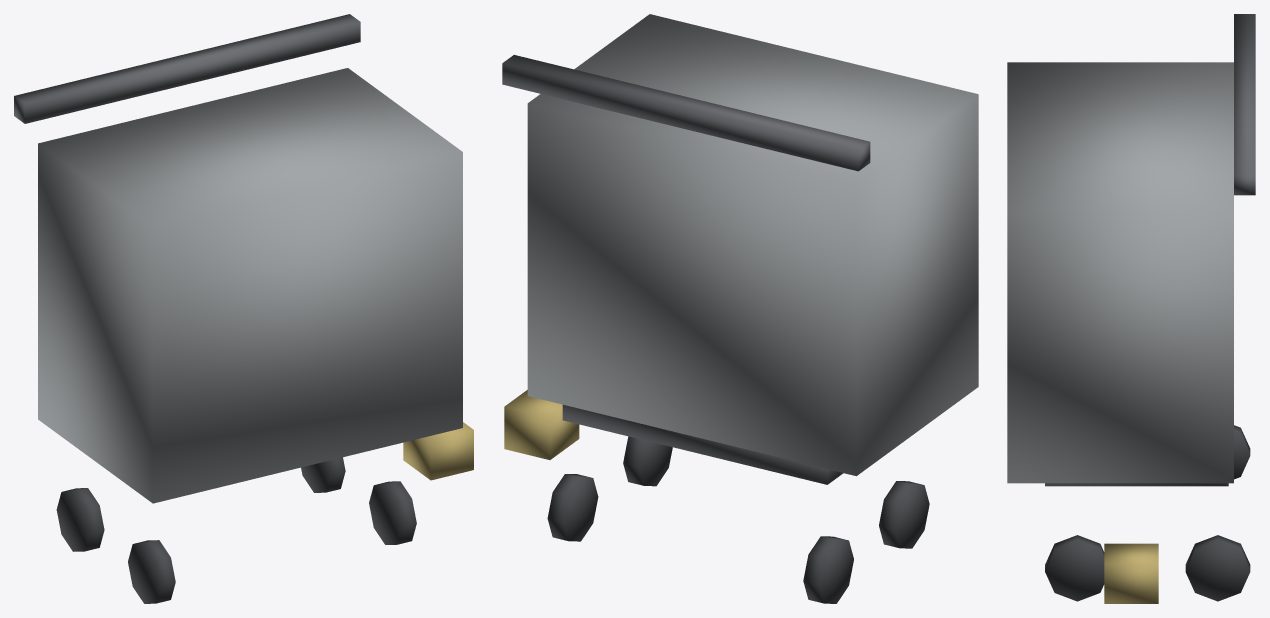
Rendered from grocery_cart_05.glb.
The picture shows the model from 3 angles, left to right: view 1: azimuth 30°, elevation 25°; view 2: azimuth 150°, elevation 25°; view 3: azimuth 270°, elevation 25°; orthographic projection. The views are drawn at different scales.
Visible parts, largest first — view 1: world; view 2: world; view 3: world.
Boxes of the visible parts, x1=… form: world: x1=14, y1=14, x2=473, y2=603; world: x1=502, y1=14, x2=978, y2=603; world: x1=1007, y1=14, x2=1255, y2=603.
Size of the model in its own units: 0.7832 by 0.882 by 0.4462.
